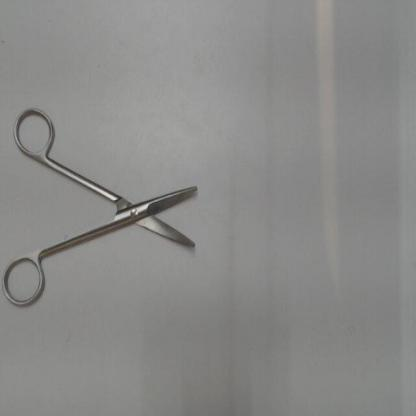Curved Mayo Scissors: (0, 101, 206, 314)
